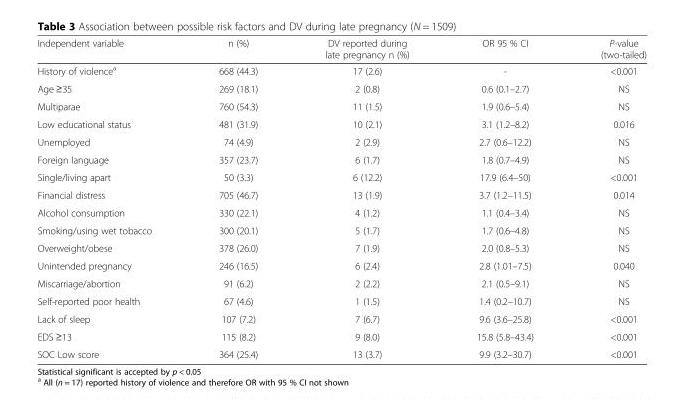table: (36, 37, 645, 359)
table column: (290, 37, 442, 359), (36, 37, 184, 359), (442, 37, 566, 359), (184, 37, 290, 359), (566, 37, 645, 359)
table column header: (36, 37, 645, 61)
table row: (36, 37, 645, 61), (36, 61, 645, 79), (36, 79, 645, 97), (36, 97, 645, 115), (36, 132, 645, 150), (36, 150, 645, 168), (36, 185, 645, 203), (36, 203, 645, 221), (36, 238, 645, 256), (36, 256, 645, 274), (36, 274, 645, 292), (36, 309, 645, 327), (36, 327, 645, 345), (36, 115, 645, 132), (36, 168, 645, 185), (36, 221, 645, 238), (36, 292, 645, 309), (36, 345, 645, 359)
